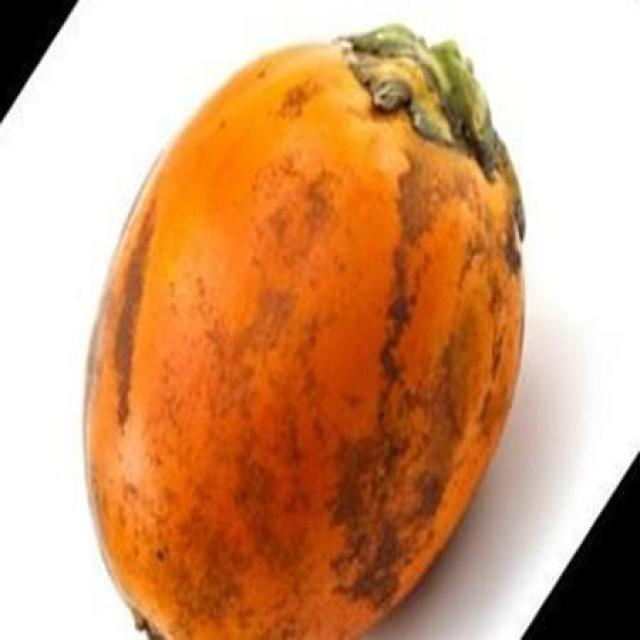good: (78, 24, 526, 638)
